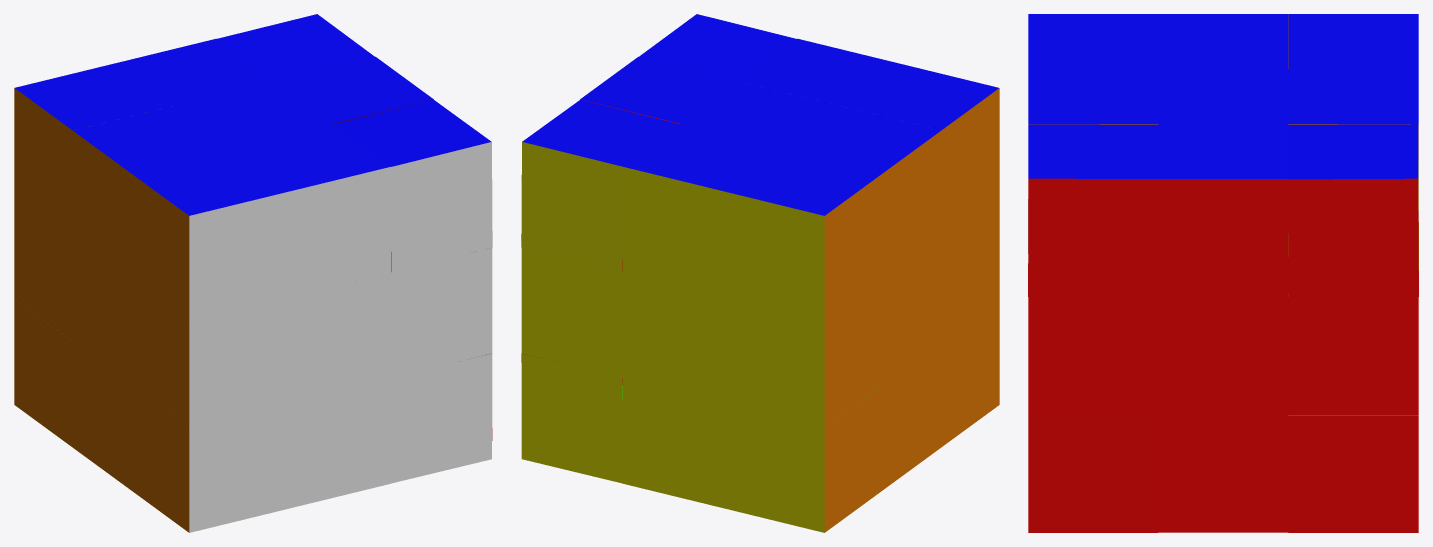
3 views of the same model, side by side, from view 1: azimuth 30°, elevation 25°; view 2: azimuth 150°, elevation 25°; view 3: azimuth 270°, elevation 25° (orthographic). The views are drawn at different scales.
Visible parts, largest first — view 1: OBW, OWG, OW, BW, WBR, YBO, BO, W, WG, WRG, WR, YOG (+7 smaller); view 2: YBO, YOG, YO, BY, RBY, OBW, BO, RYG, Y, YG, RY, OWG (+7 smaller); view 3: RBY, WBR, BR, RYG, WRG, RG, RY, WR, R, OBW, YBO, BO (+3 smaller).
Part boxes in pixels (bbox=[...]): OBW: bbox=[131, 148, 290, 321]; OWG: bbox=[131, 385, 290, 532]; OW: bbox=[131, 279, 290, 427]; BW: bbox=[232, 124, 391, 296]; WBR: bbox=[334, 99, 492, 272]; YBO: bbox=[14, 63, 173, 235]; BO: bbox=[72, 106, 231, 278]; W: bbox=[290, 272, 391, 402]; WG: bbox=[290, 378, 391, 508]; WRG: bbox=[391, 353, 492, 483]; WR: bbox=[391, 248, 492, 377]; YOG: bbox=[14, 299, 72, 447]; YBO: bbox=[723, 148, 882, 321]; YOG: bbox=[723, 385, 882, 532]; YO: bbox=[723, 279, 882, 427]; BY: bbox=[622, 124, 781, 296]; RBY: bbox=[521, 99, 679, 272]; OBW: bbox=[841, 63, 999, 235]; BO: bbox=[782, 106, 941, 278]; RYG: bbox=[521, 353, 622, 483]; Y: bbox=[622, 272, 723, 402]; YG: bbox=[622, 378, 723, 508]; RY: bbox=[521, 248, 622, 377]; OWG: bbox=[941, 299, 999, 447]; RBY: bbox=[1288, 124, 1418, 297]; WBR: bbox=[1028, 124, 1158, 297]; BR: bbox=[1158, 124, 1288, 296]; RYG: bbox=[1288, 415, 1418, 532]; WRG: bbox=[1028, 415, 1158, 532]; RG: bbox=[1158, 415, 1288, 532]; RY: bbox=[1288, 297, 1418, 414]; WR: bbox=[1028, 297, 1158, 414]; R: bbox=[1158, 297, 1288, 414]; OBW: bbox=[1028, 14, 1158, 124]; YBO: bbox=[1288, 14, 1418, 131]; BO: bbox=[1158, 14, 1288, 68].
Size of the model in its own units: 3 by 3 by 3.
